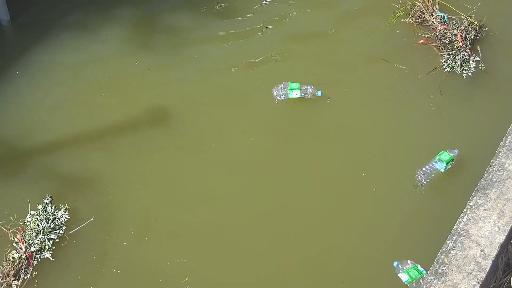plastic: (407, 140, 464, 192), (385, 248, 442, 285), (265, 74, 329, 106)
twig: (354, 0, 492, 93), (0, 171, 87, 281)
